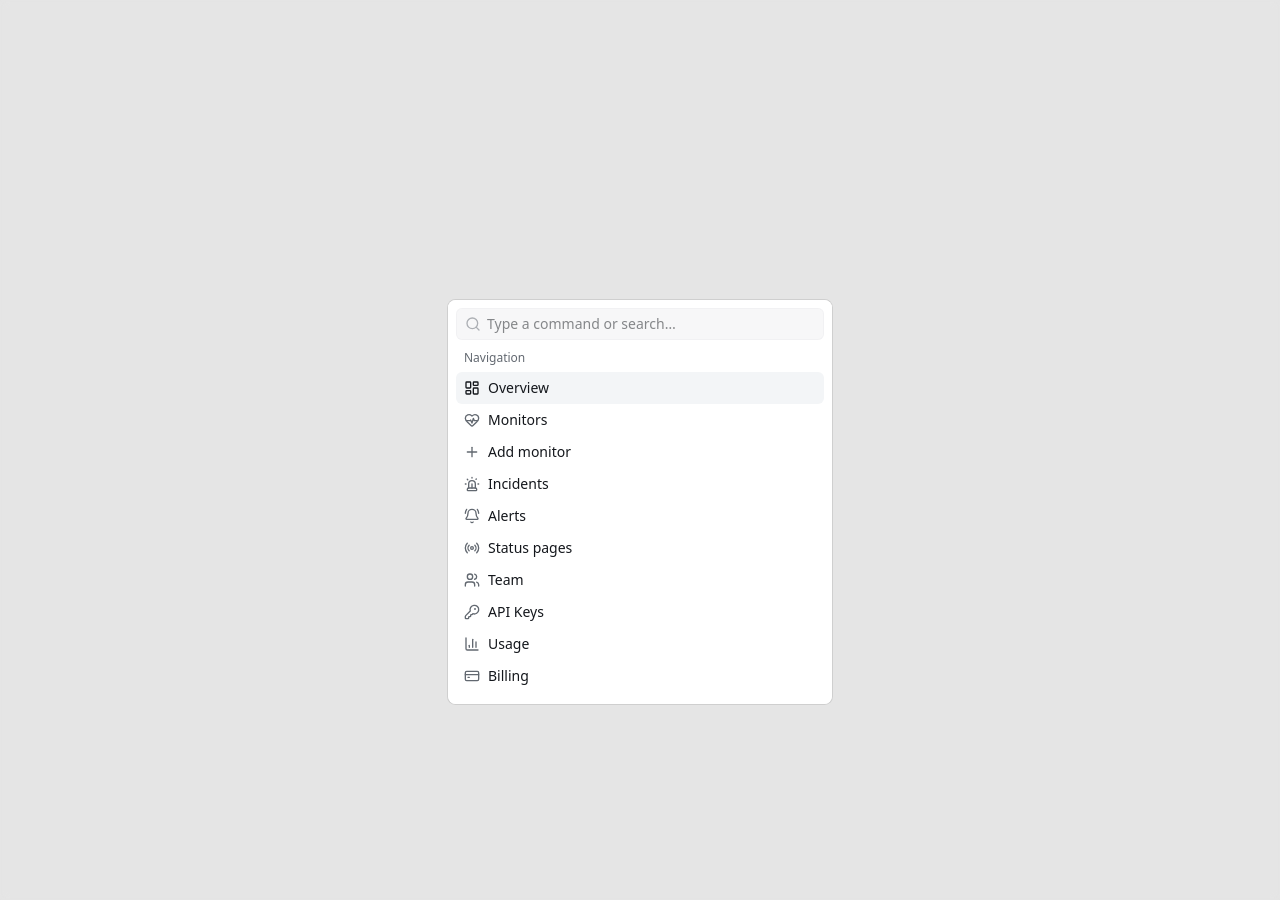
Test case: CommandMenu › filters as you type
This screenshot has width=1280, height=900.
Expected: the text "Billing" is shown, [488,666,529,686]
Type "usage" into the dropdown at (652, 324), box [481,314,823,334]
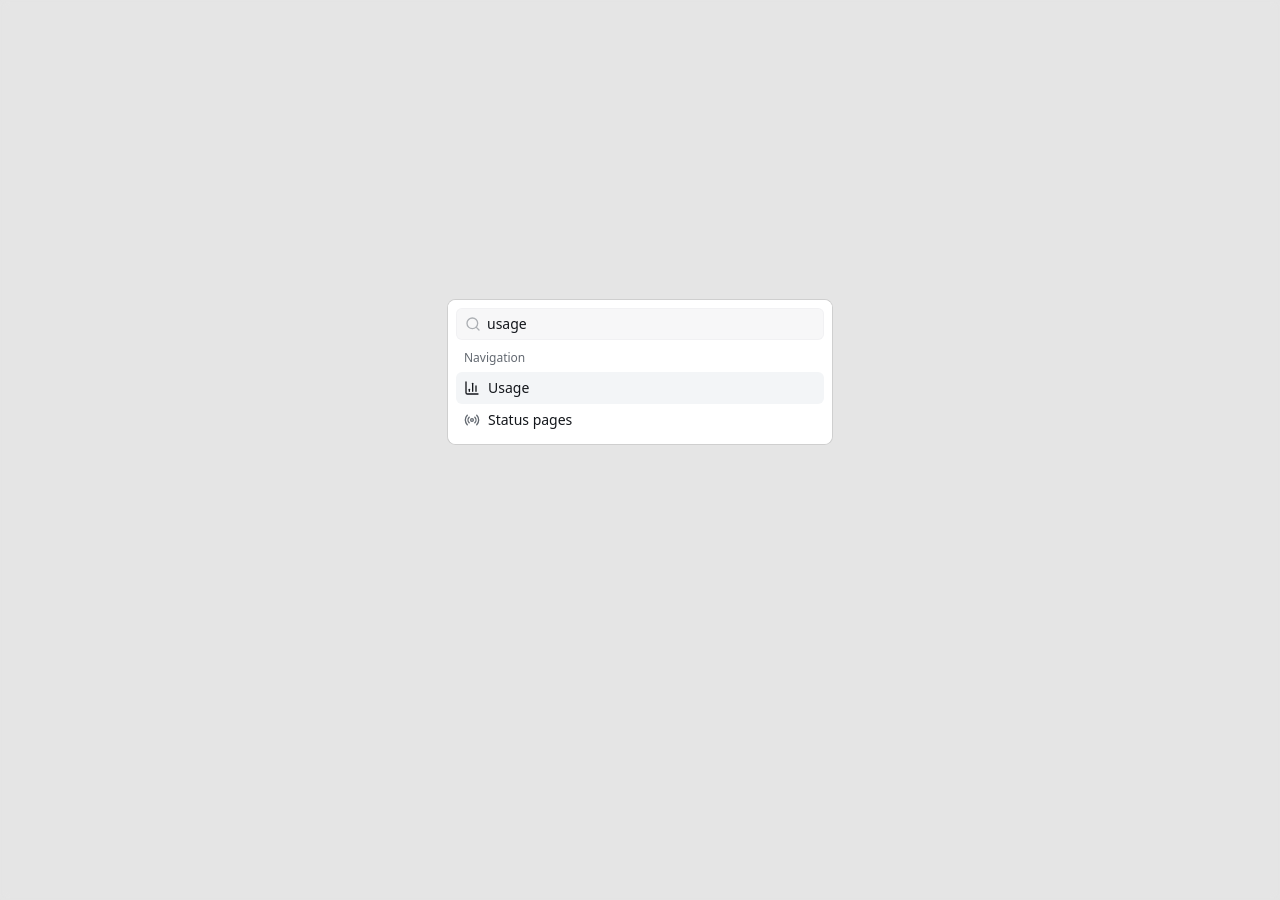
Expected: the text "Usage" is shown, [488,378,529,398]
Expected: the option "Billing" is gone
